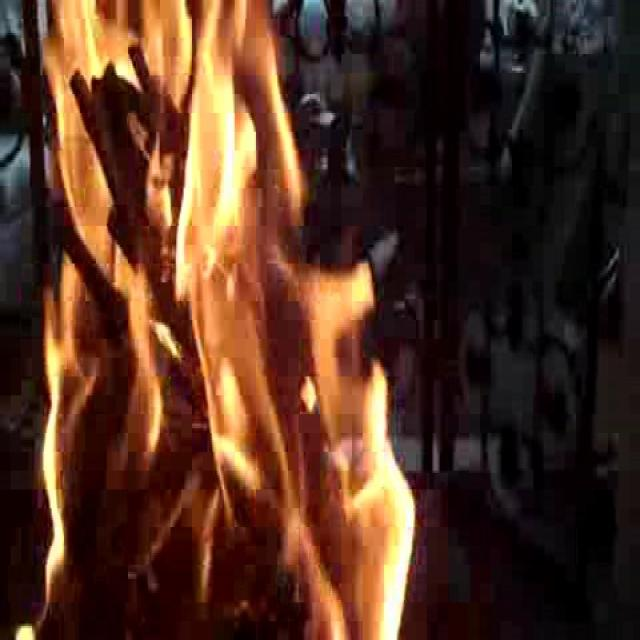fire: (34, 4, 416, 632)
